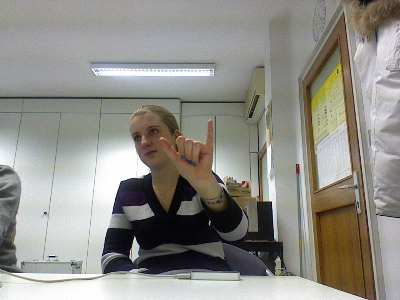六六六: (157, 117, 216, 181)
